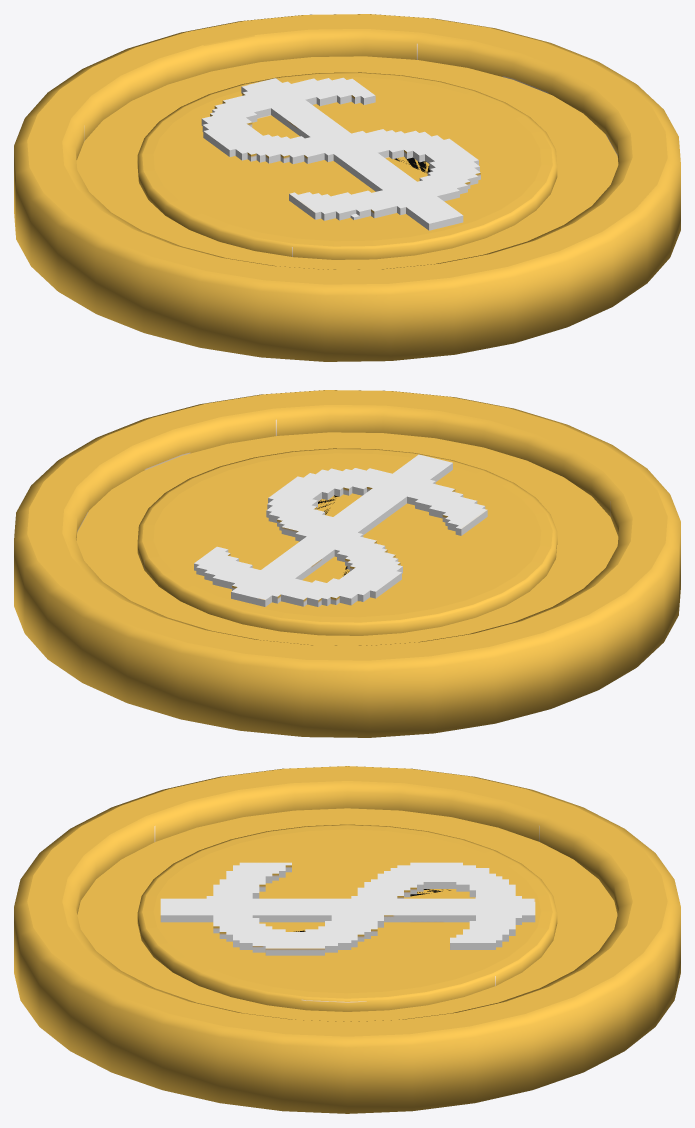
File: GoldCoin.fbx
3 views of the same model, one above another, from view 1: azimuth 30°, elevation 25°; view 2: azimuth 150°, elevation 25°; view 3: azimuth 270°, elevation 25° (orthographic).
Parts seen in each view (by area): view 1: GoldCoin; view 2: GoldCoin; view 3: GoldCoin.
Part boxes in pixels (<box>): GoldCoin: <box>14,14,680,361</box>; GoldCoin: <box>14,390,680,737</box>; GoldCoin: <box>14,766,680,1113</box>.
Bounding box in the file's own units: 268 × 34.17 × 268.
